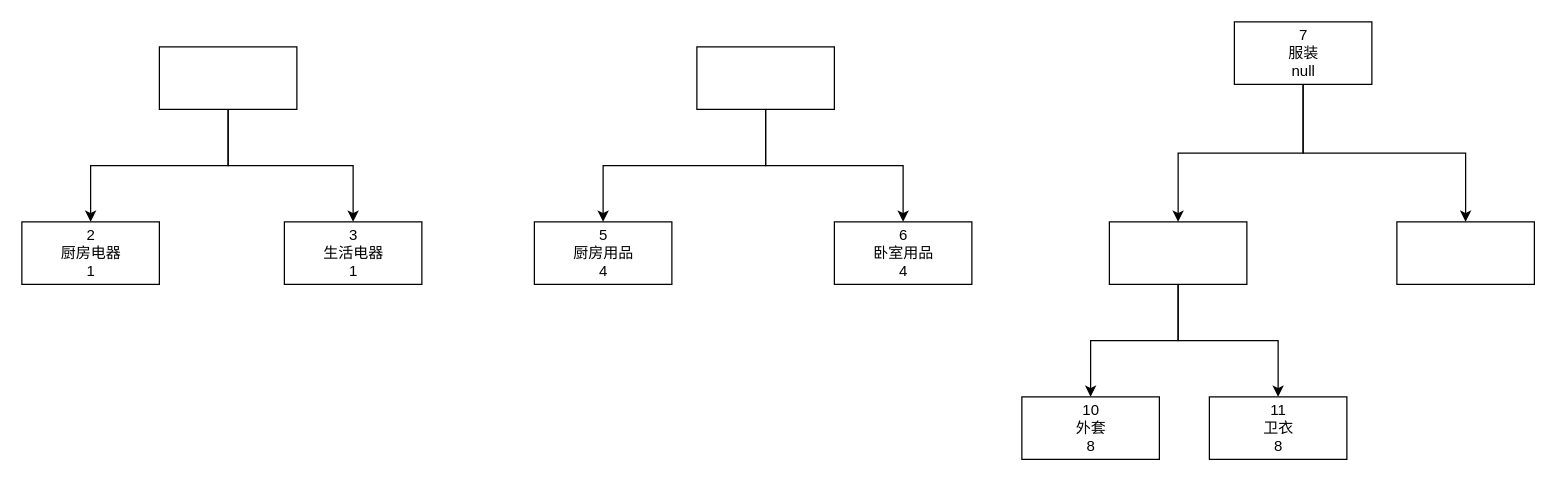
This 1556x481 diagram has some shape labels left out. The box of each missing label's shape, as (x1, y1, x2, y2) in pixels:
1 电器 null: (158, 46, 297, 109)
4 生活用品 null: (696, 46, 834, 109)
8 上衣 7: (1108, 221, 1247, 284)
9 裤子 7: (1396, 221, 1534, 284)
